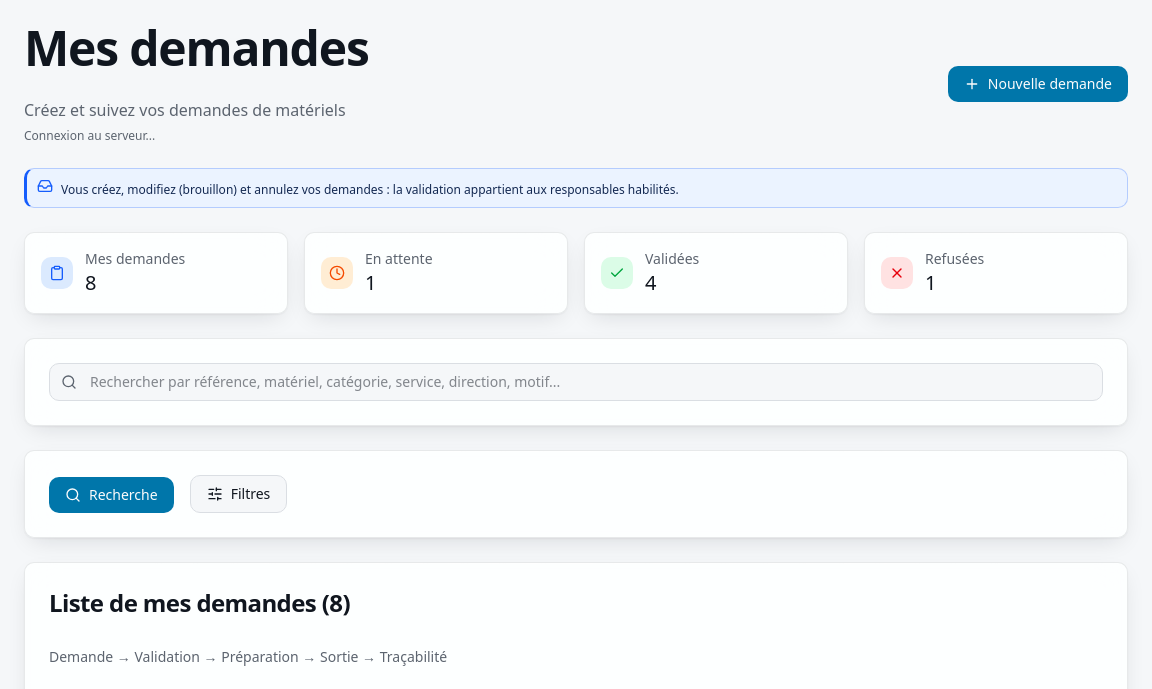
Scenario: MyRequests — écriture d'une demande conforme à l'étape 1 › distingue un stock ILLISIBLE d'un stock vide
Step 1. Click the button "Nouvelle demande" → (1038, 84), box x1=948 y1=66 x2=1128 y2=102
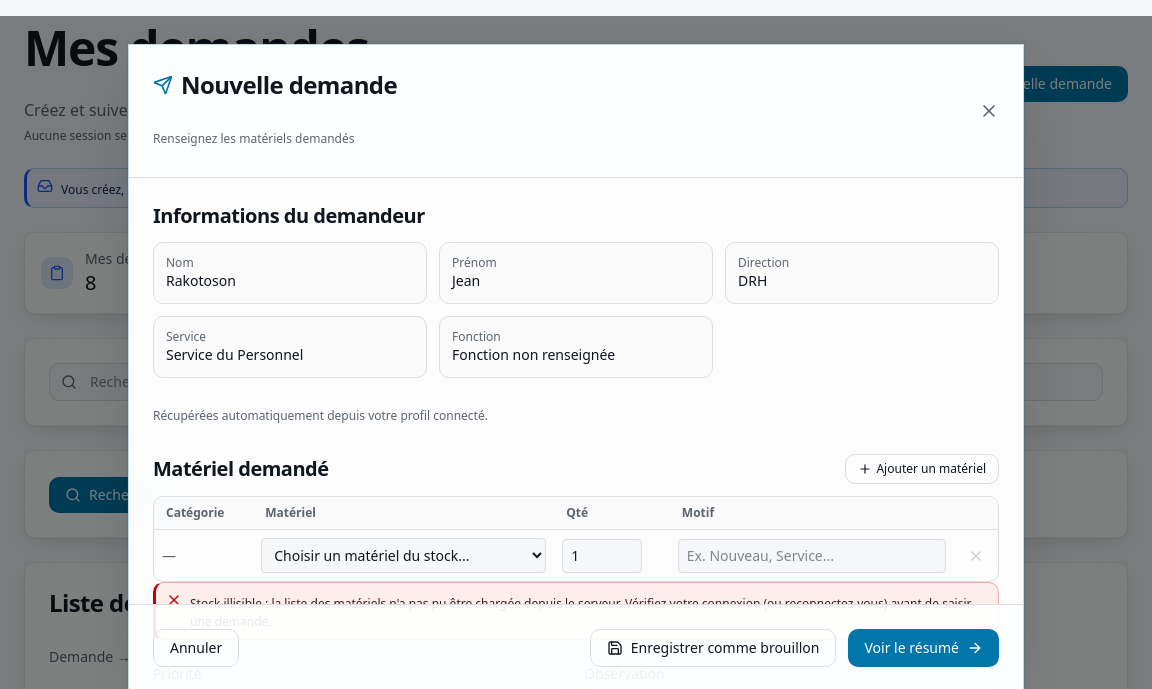
Check: the text "Stock illisible" is shown, box x1=190 y1=595 x2=972 y2=630
